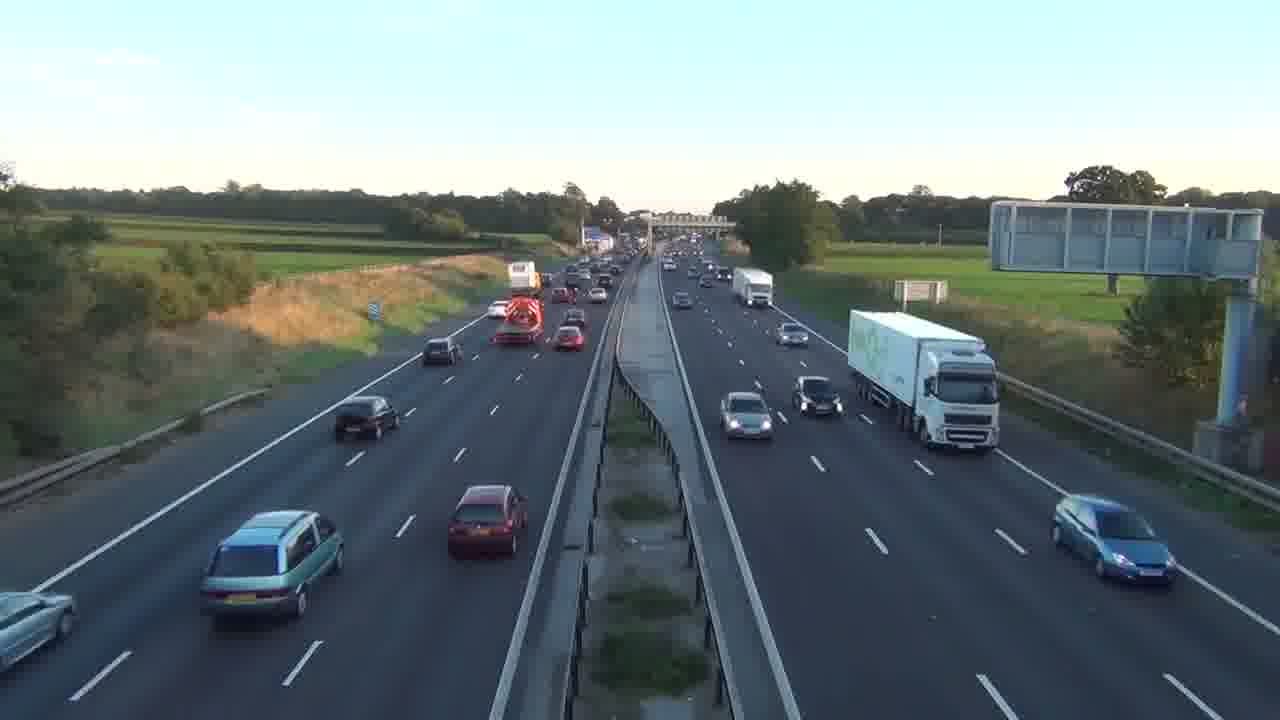car: (197, 508, 345, 620), (1050, 493, 1174, 586), (0, 587, 79, 673), (447, 483, 529, 559), (333, 395, 400, 441), (720, 391, 775, 441), (791, 375, 845, 419), (422, 337, 456, 366), (775, 320, 810, 348), (671, 289, 694, 310)
truck: (847, 308, 1000, 453), (731, 267, 774, 308)
